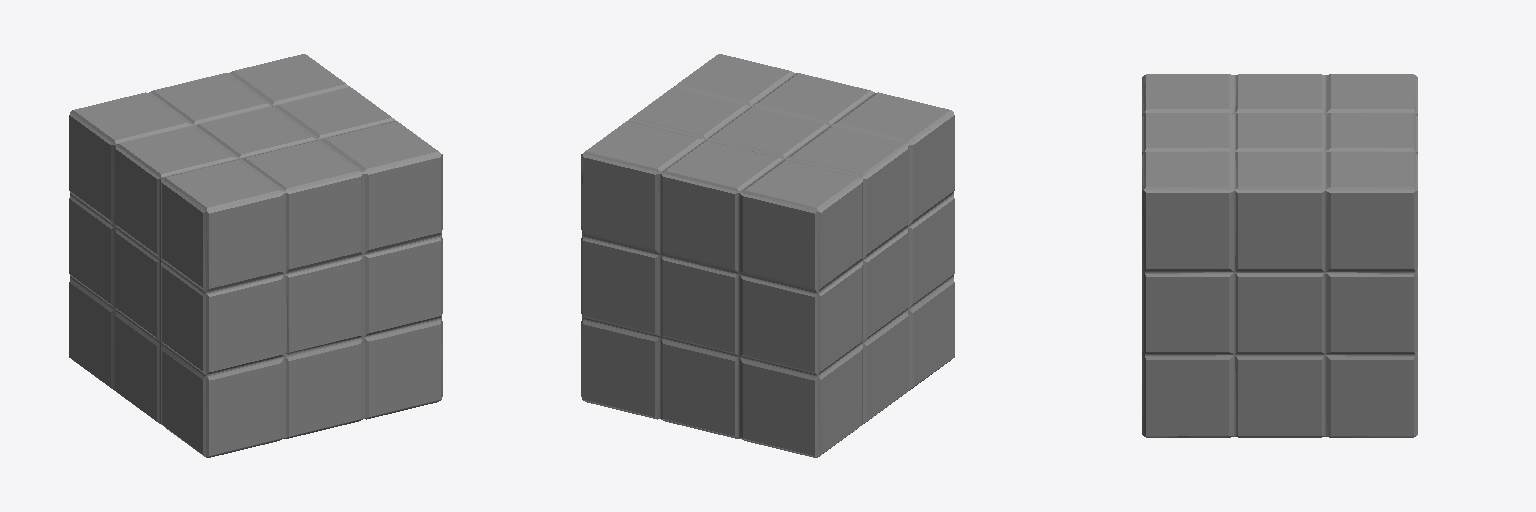
Rendered from magicCube.obj.
The picture shows the model from 3 angles: view 1: azimuth 30°, elevation 25°; view 2: azimuth 150°, elevation 25°; view 3: azimuth 270°, elevation 25°; orthographic projection.
Parts seen in each view (by area): view 1: Box01; view 2: Box01; view 3: Box01.
Part boxes in pixels (x1,y1,x2,y2): Box01: (69,54,442,457); Box01: (581,54,954,457); Box01: (1142,74,1417,437).
Size of the model in its own units: 100 by 100 by 100.